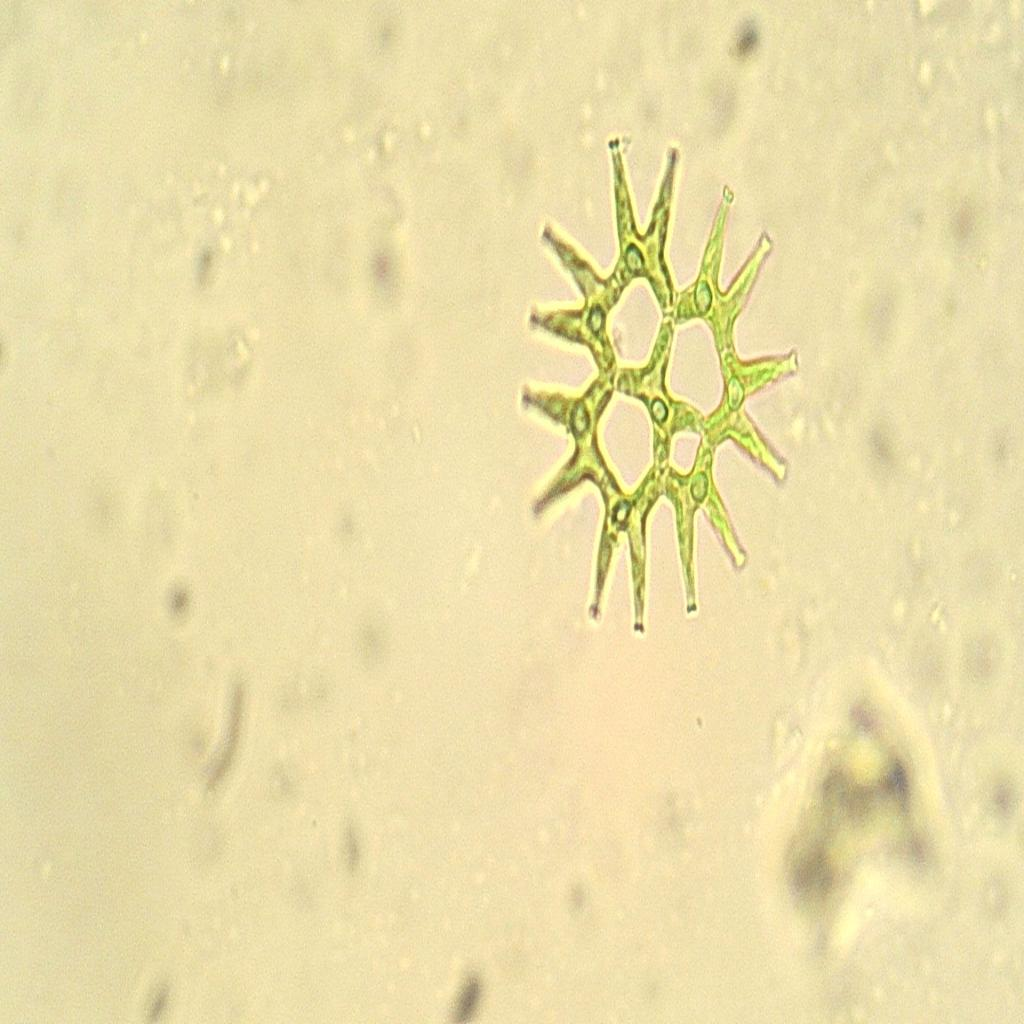Pediastrum_75T: (509, 89, 805, 674)
